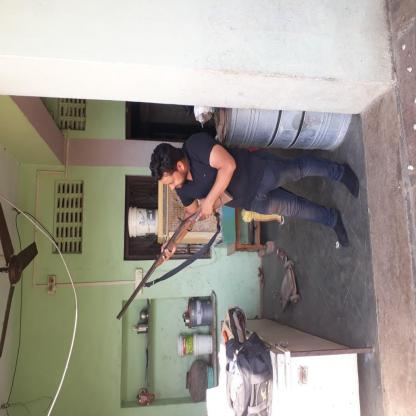rifle: (115, 188, 235, 322)
